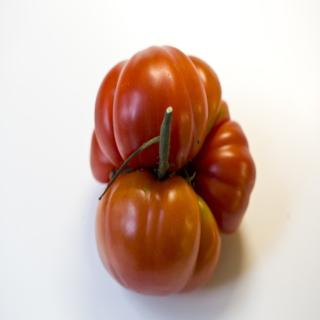tomato: (90, 44, 255, 238), (97, 163, 209, 293)
